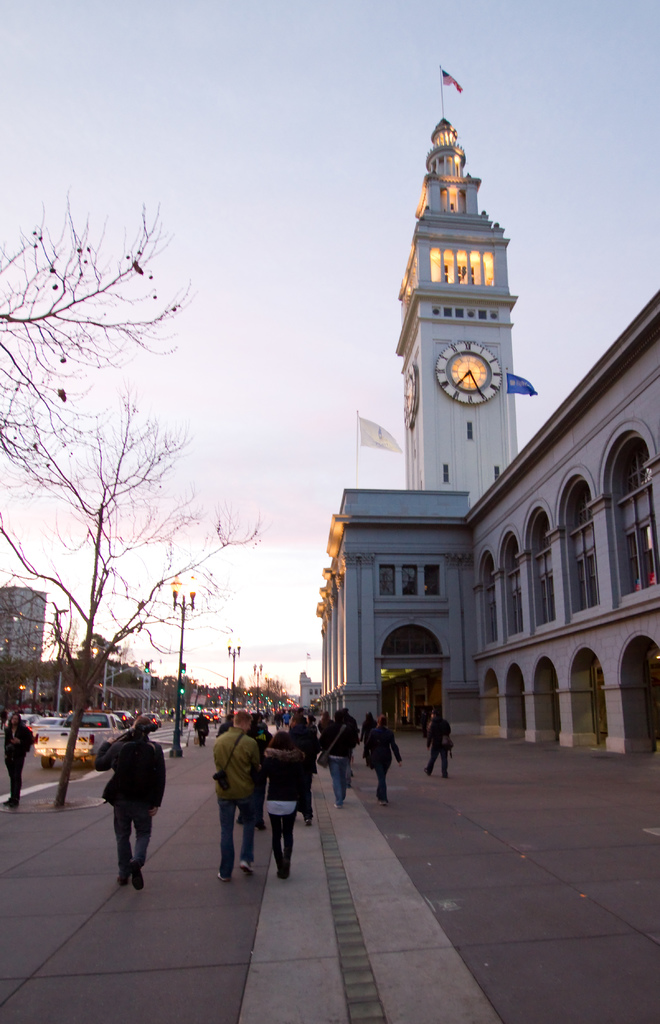Footwear: (130, 860, 142, 892), (239, 860, 253, 876), (277, 872, 289, 881), (118, 876, 128, 886), (218, 870, 229, 879), (3, 798, 13, 804), (335, 804, 344, 810), (424, 767, 430, 776), (10, 802, 17, 809), (258, 823, 267, 828), (305, 819, 309, 826), (382, 800, 386, 805), (239, 819, 242, 824), (442, 778, 447, 779)
